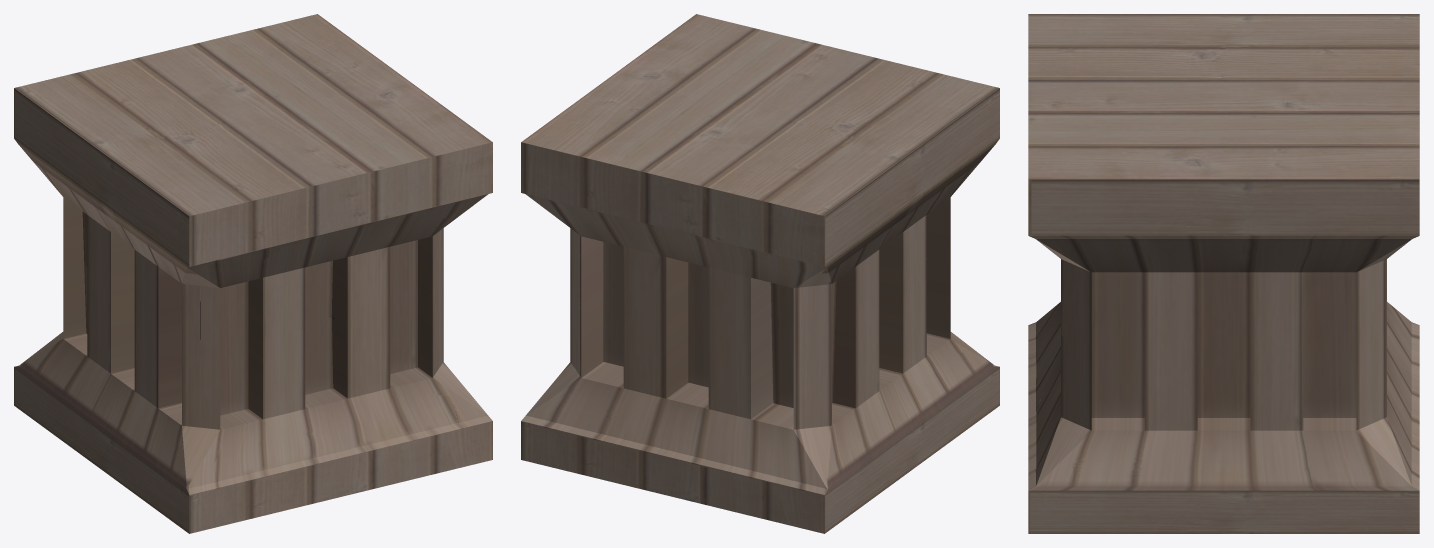
The model's file is CrateMesh.glb.
3 views of the same model, side by side, from view 1: azimuth 30°, elevation 25°; view 2: azimuth 150°, elevation 25°; view 3: azimuth 270°, elevation 25° (orthographic). The views are drawn at different scales.
Parts seen in each view (by area): view 1: Cube, Cube_cell.074, Cube_cell.026, Cube_cell.075, Cube_cell.094, Cube_cell.040, Cube_cell.044, Cube_cell.065, Cube_cell.003, Cube_cell.030, Cube_cell.013, Cube_cell.012 (+39 smaller); view 2: Cube, Cube_cell.074, Cube_cell.044, Cube_cell.078, Cube_cell.030, Cube_cell.094, Cube_cell.075, Cube_cell.065, Cube_cell.056, Cube_cell.053, Cube_cell.012, Cube_cell.047 (+31 smaller); view 3: Cube, Cube_cell.065, Cube_cell.061, Cube_cell.074, Cube_cell.077, Cube_cell.083, Cube_cell.089, Cube_cell.096, Cube_cell.088, Cube_cell.044, Cube_cell.075, Cube_cell.014 (+36 smaller).
Boxes of the visible parts, x1,y1,x2,y2 form: Cube: (14, 14, 492, 533); Cube_cell.074: (263, 122, 440, 212); Cube_cell.026: (312, 317, 393, 448); Cube_cell.075: (181, 153, 310, 235); Cube_cell.094: (100, 124, 228, 236); Cube_cell.040: (256, 323, 332, 434); Cube_cell.044: (106, 43, 233, 102); Cube_cell.065: (295, 53, 435, 105); Cube_cell.003: (390, 294, 449, 394); Cube_cell.030: (197, 21, 316, 77); Cube_cell.013: (312, 239, 372, 326); Cube_cell.012: (68, 110, 213, 202); Cube: (521, 14, 999, 533); Cube_cell.074: (710, 26, 877, 107); Cube_cell.044: (643, 139, 783, 218); Cube_cell.078: (522, 393, 617, 478); Cube_cell.030: (551, 121, 679, 196); Cube_cell.094: (793, 108, 947, 192); Cube_cell.075: (833, 58, 987, 108); Cube_cell.065: (575, 55, 695, 120); Cube_cell.056: (590, 320, 665, 423); Cube_cell.053: (662, 107, 784, 328); Cube_cell.012: (798, 125, 911, 233); Cube_cell.047: (734, 157, 821, 232); Cube: (1028, 14, 1419, 533); Cube_cell.065: (1155, 132, 1298, 259); Cube_cell.061: (1145, 131, 1223, 353); Cube_cell.074: (1028, 80, 1201, 151); Cube_cell.077: (1149, 446, 1262, 533); Cube_cell.083: (1061, 150, 1144, 344); Cube_cell.089: (1032, 150, 1145, 255); Cube_cell.096: (1299, 152, 1374, 263); Cube_cell.088: (1263, 456, 1418, 533); Cube_cell.044: (1281, 63, 1419, 112); Cube_cell.075: (1028, 20, 1153, 79); Cube_cell.014: (1211, 352, 1276, 508).
Size of the model in its own units: 0.904 by 0.904 by 0.904.
1 material, 1 textured.
